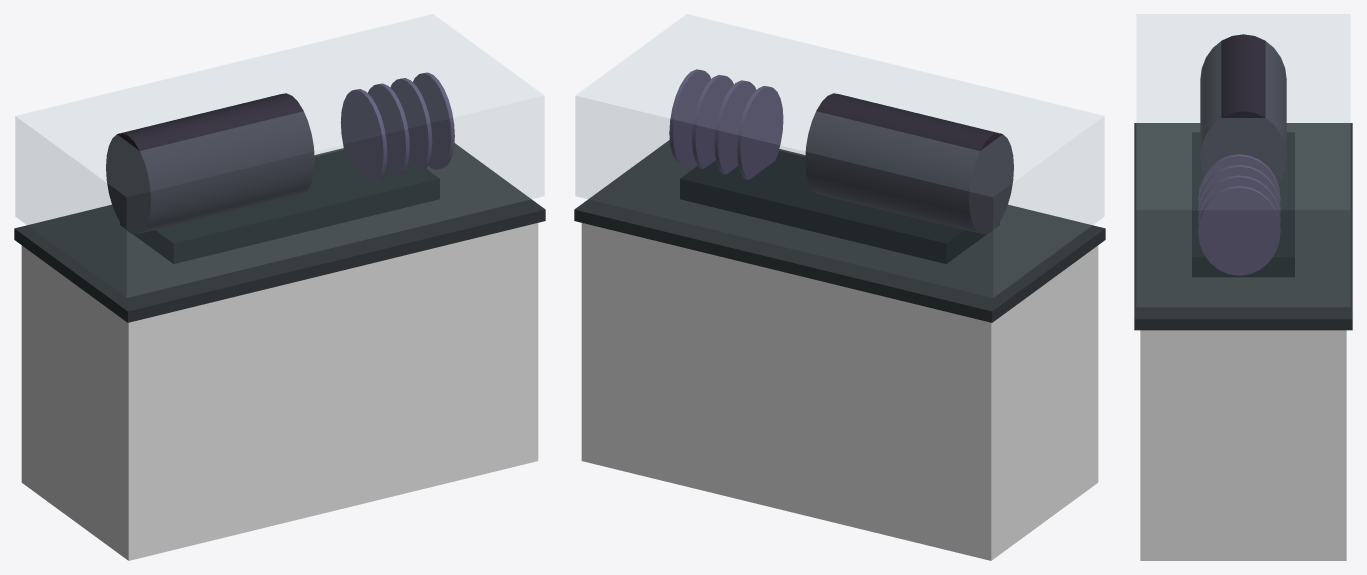
File: gaas.glb
The picture shows the model from 3 angles, left to right: view 1: azimuth 30°, elevation 25°; view 2: azimuth 150°, elevation 25°; view 3: azimuth 270°, elevation 25°; orthographic projection. The views are drawn at different scales.
Parts seen in each view (by area): view 1: gaas; view 2: gaas; view 3: gaas.
Part boxes in pixels (left/top/right/bottom): gaas: left=14, top=14, right=545, bottom=560; gaas: left=574, top=14, right=1105, bottom=560; gaas: left=1134, top=14, right=1352, bottom=560.
Size of the model in its own units: 1.7 by 1.45 by 0.8.
